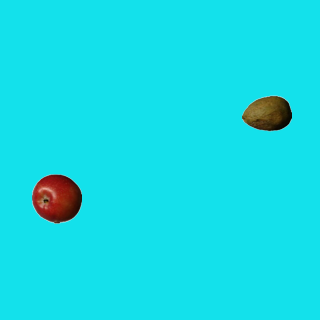Apple Braeburn: (31, 173, 81, 223)
Papaya: (241, 88, 291, 138)
